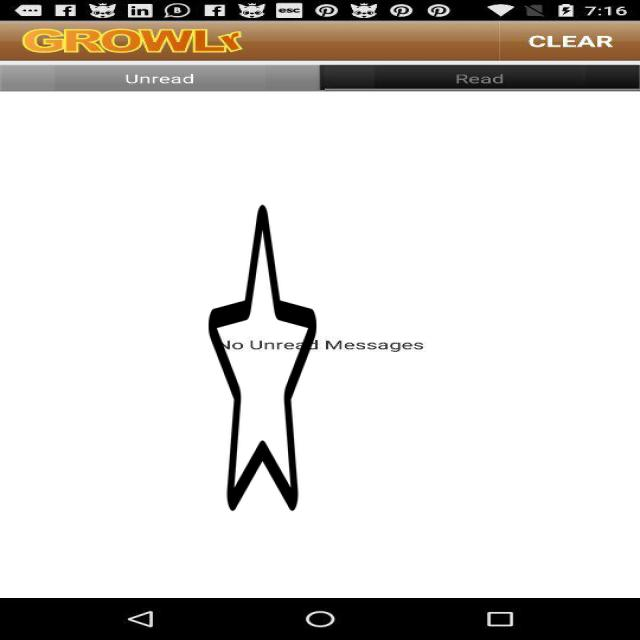forced continuity: (208, 198, 316, 517)
